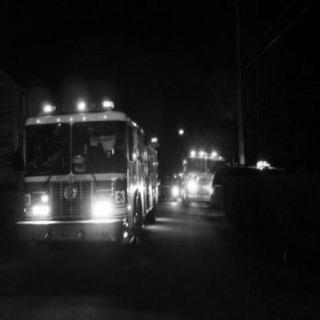other: (37, 99, 55, 115)
